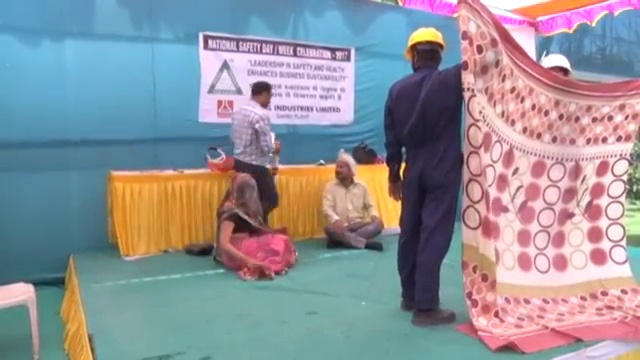helmet: (403, 25, 445, 57), (538, 52, 573, 75)
helmet_off: (230, 170, 256, 200), (332, 150, 355, 183), (251, 80, 275, 111)
helmet_on: (401, 24, 446, 73)
person: (380, 26, 469, 325), (214, 168, 299, 277), (231, 80, 283, 218), (318, 149, 383, 253)
